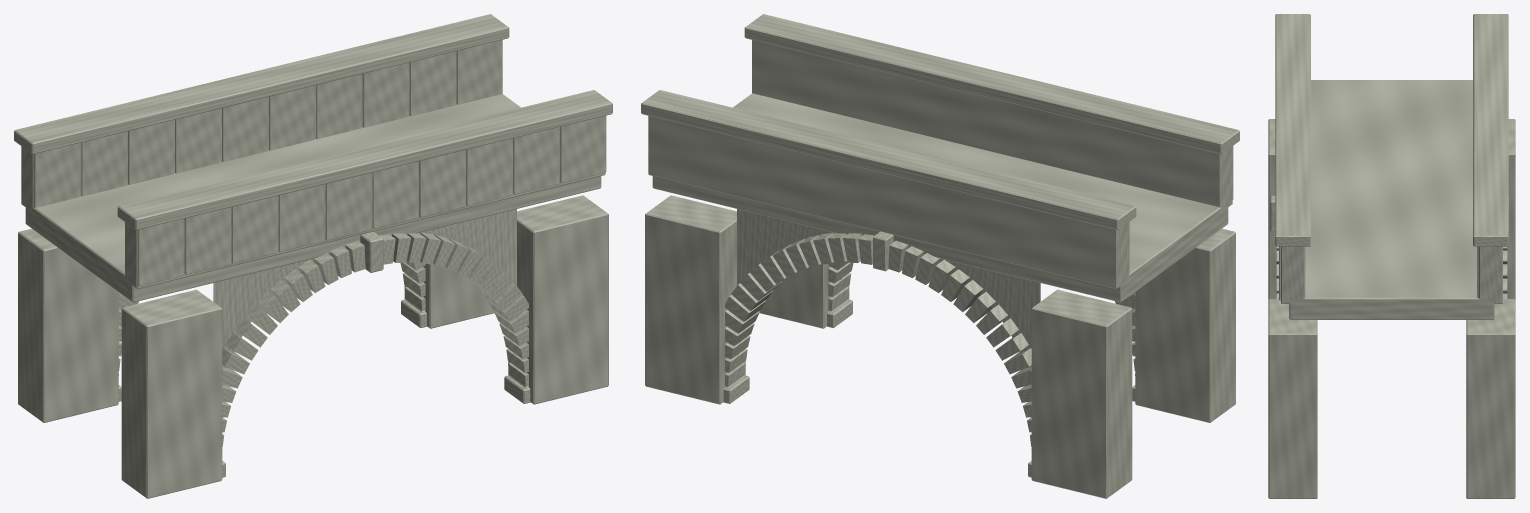
File: harbor_arch_bridge.glb
3 renders of one model, left to right at view 1: azimuth 30°, elevation 25°; view 2: azimuth 150°, elevation 25°; view 3: azimuth 270°, elevation 25°, orthographic. The views are drawn at different scales.
Parts seen in each view (by area): view 1: harbor_arch_bridge_Structure, harbor_arch_bridge_Detail; view 2: harbor_arch_bridge_Structure, harbor_arch_bridge_Detail; view 3: harbor_arch_bridge_Structure, harbor_arch_bridge_Detail.
Boxes of the visible parts, left/top/right/bottom form: harbor_arch_bridge_Structure: left=14, top=14, right=612, bottom=498; harbor_arch_bridge_Detail: left=118, top=231, right=530, bottom=477; harbor_arch_bridge_Structure: left=641, top=14, right=1239, bottom=498; harbor_arch_bridge_Detail: left=723, top=231, right=1135, bottom=477; harbor_arch_bridge_Structure: left=1268, top=14, right=1515, bottom=498; harbor_arch_bridge_Detail: left=1270, top=195, right=1508, bottom=298.
Size of the model in its own units: 6.92 by 3.89 by 3.25.
Materials: 1 (1 with a texture image).
